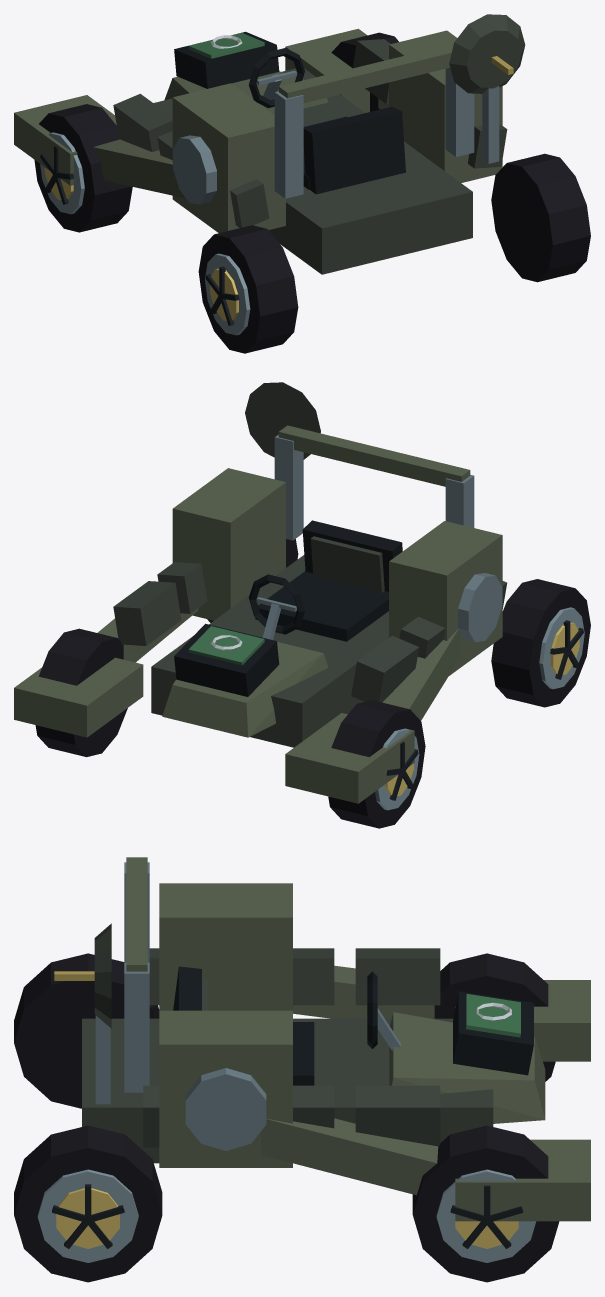
The model's file is kart.glb.
The picture shows the model from 3 angles, top to bottom: view 1: azimuth 30°, elevation 25°; view 2: azimuth 150°, elevation 25°; view 3: azimuth 270°, elevation 25°; orthographic projection. The views are drawn at different scales.
Parts seen in each view (by area): view 1: identity-mech-mech-articulated-limbs-and-open-harness, wheel-rear-left, wheel-rear-right, identity-mech-driver-cockpit, wheel-front-left, identity-mech-motif-armor, identity-mech-motif-radar, identity-mech-motif-scanner, wheel-front-right; view 2: identity-mech-mech-articulated-limbs-and-open-harness, identity-mech-driver-cockpit, wheel-rear-left, identity-mech-motif-armor, wheel-front-left, identity-mech-motif-scanner, wheel-front-right, identity-mech-motif-radar; view 3: identity-mech-mech-articulated-limbs-and-open-harness, wheel-rear-right, identity-mech-motif-armor, wheel-front-right, wheel-rear-left, identity-mech-motif-scanner, wheel-front-left, identity-mech-driver-cockpit, identity-mech-motif-radar.
Boxes of the visible parts, x1,y1,x2,y2 form: identity-mech-mech-articulated-limbs-and-open-harness: [14, 28, 502, 274]; wheel-rear-left: [198, 225, 298, 353]; wheel-rear-right: [491, 153, 590, 282]; identity-mech-driver-cockpit: [248, 48, 405, 194]; wheel-front-left: [34, 104, 132, 232]; identity-mech-motif-armor: [113, 39, 507, 227]; identity-mech-motif-radar: [449, 14, 525, 163]; identity-mech-motif-scanner: [174, 31, 279, 88]; wheel-front-right: [331, 32, 398, 111]; identity-mech-mech-articulated-limbs-and-open-harness: [14, 425, 502, 803]; identity-mech-driver-cockpit: [248, 520, 402, 641]; wheel-rear-left: [491, 579, 590, 707]; identity-mech-motif-armor: [113, 562, 507, 702]; wheel-front-left: [328, 700, 425, 828]; identity-mech-motif-scanner: [174, 623, 279, 696]; wheel-front-right: [35, 628, 127, 757]; identity-mech-motif-radar: [245, 382, 320, 459]; identity-mech-mech-articulated-limbs-and-open-harness: [82, 857, 590, 1221]; wheel-rear-right: [14, 1125, 162, 1282]; identity-mech-motif-armor: [143, 948, 440, 1147]; wheel-front-right: [412, 1125, 559, 1282]; wheel-rear-left: [14, 953, 159, 1108]; identity-mech-motif-scanner: [453, 991, 533, 1075]; wheel-front-left: [434, 953, 555, 1081]; identity-mech-driver-cockpit: [173, 966, 400, 1085]; identity-mech-motif-radar: [54, 923, 111, 1104].
Bounding box in the file's own units: 2.29 × 1.65 × 2.72.
